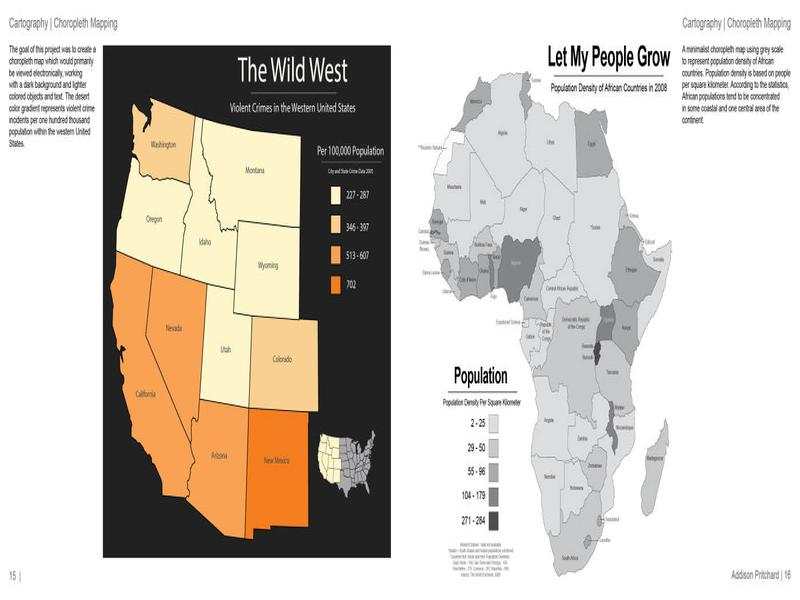legend: (440, 365, 523, 536), (311, 141, 388, 300)
